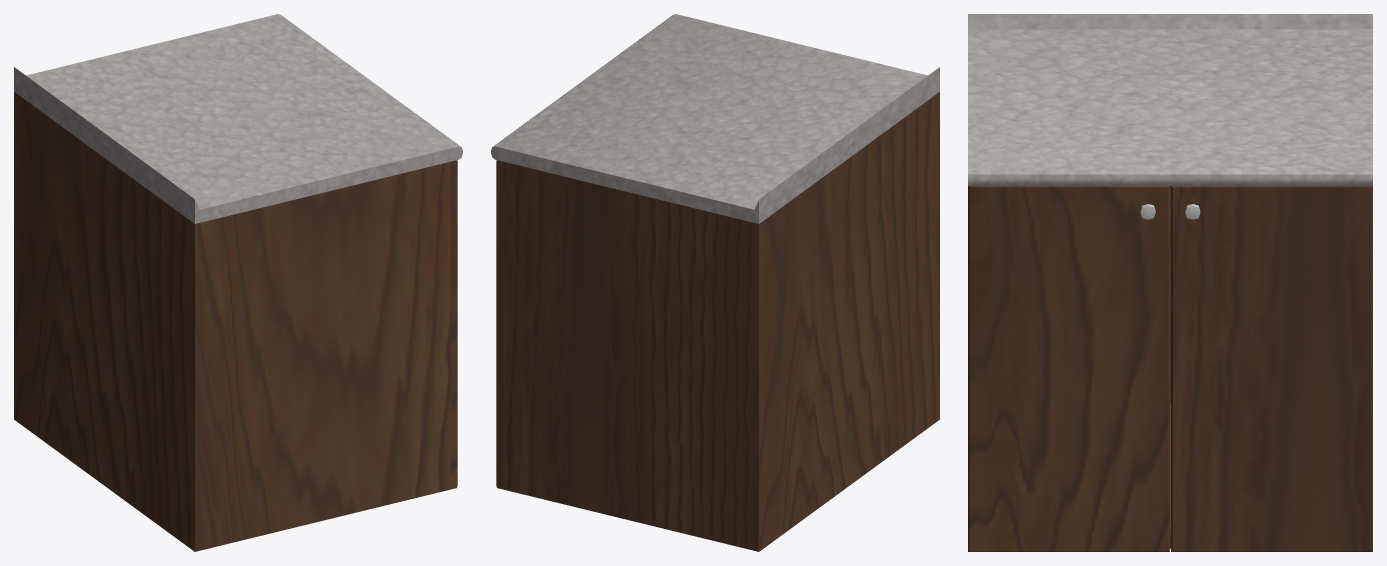
The model's file is Cabinet1.obj.
3 views of the same model, side by side, from view 1: azimuth 30°, elevation 25°; view 2: azimuth 150°, elevation 25°; view 3: azimuth 270°, elevation 25° (orthographic). The views are drawn at different scales.
Visible parts, largest first — view 1: KitchenCabinet1; view 2: KitchenCabinet1; view 3: KitchenCabinet1.
Part boxes in pixels (x1,y1,x2,y2): KitchenCabinet1: (14,14,462,551); KitchenCabinet1: (491,14,939,551); KitchenCabinet1: (968,14,1372,551).
Size of the model in its own units: 0.6921 by 0.8606 by 0.8.
